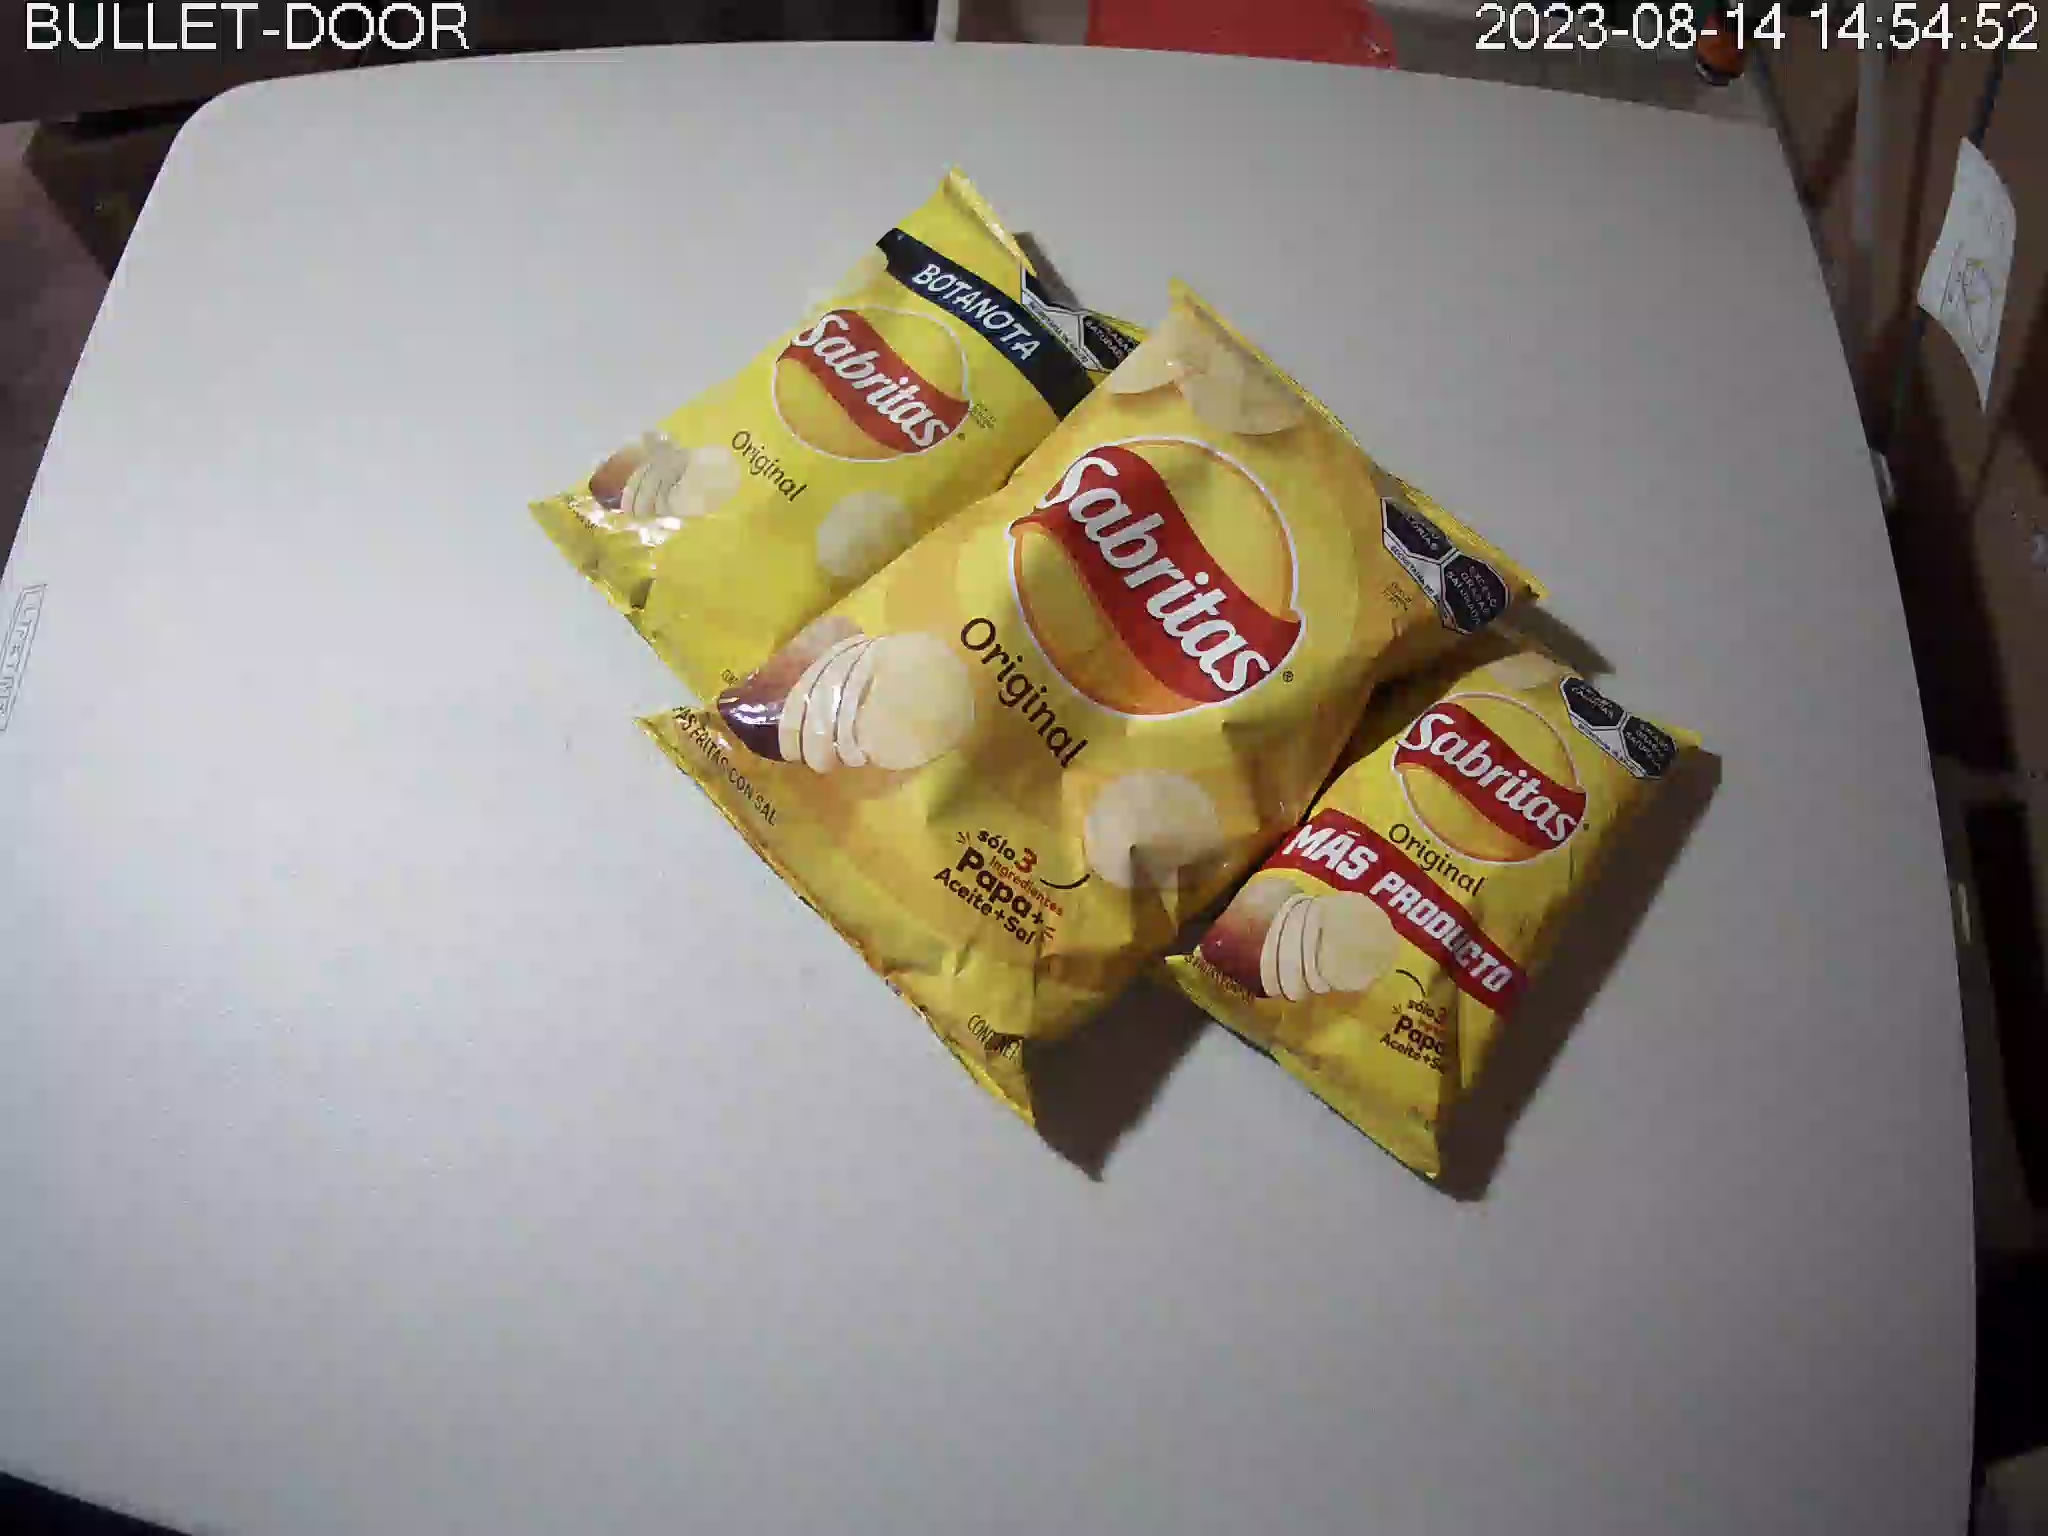Sabritas_160_F: (639, 282, 1546, 1129)
Sabritas_45_F: (1147, 592, 1705, 1186)
Sabritas_64_F: (524, 169, 1155, 716)
